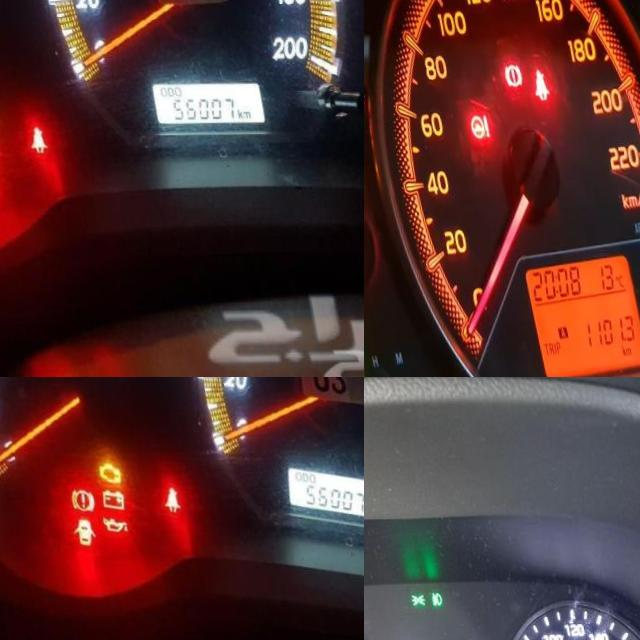Seat Belt: (14, 126, 33, 155), (147, 488, 167, 514)
SideLamp: (399, 594, 415, 608)
